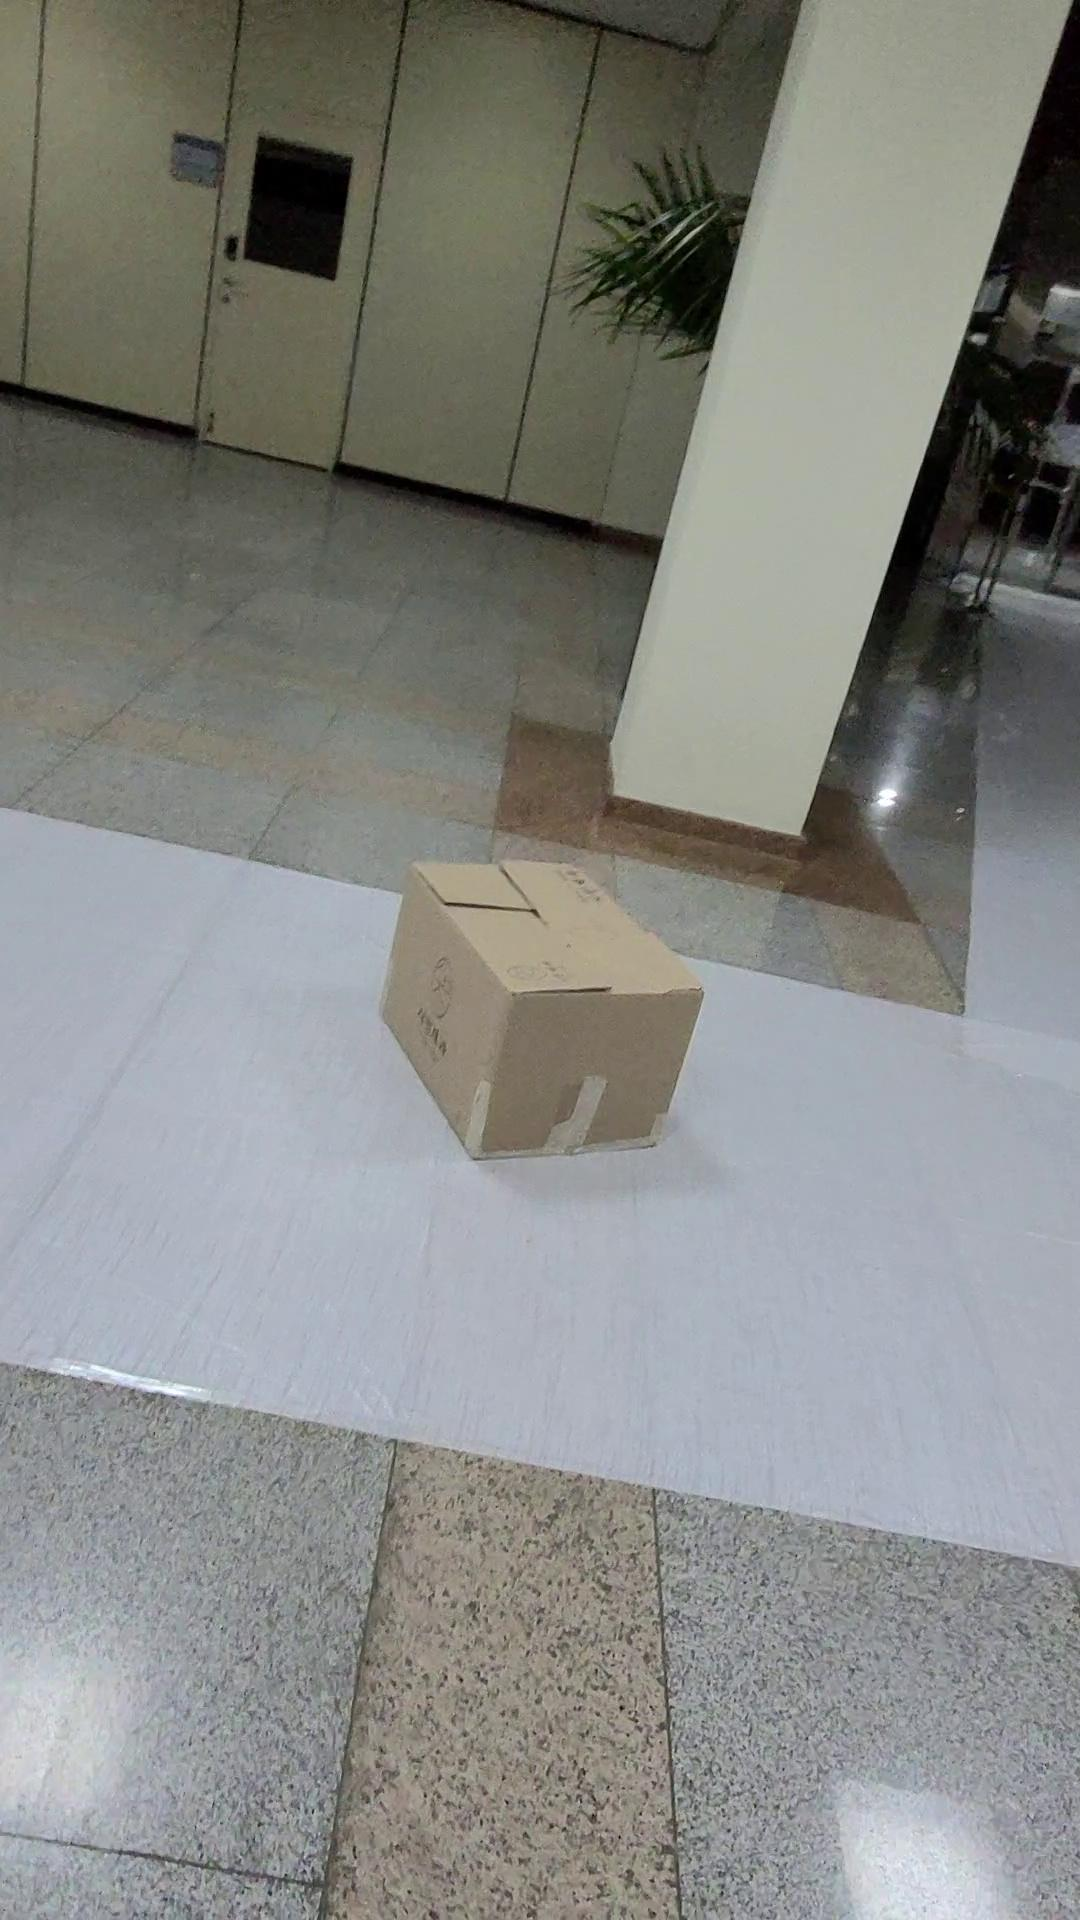Box: (371, 840, 723, 1178)
